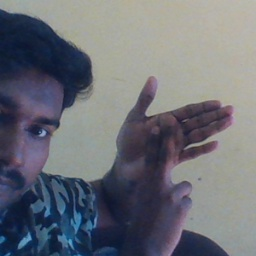N: (105, 70, 237, 223)
